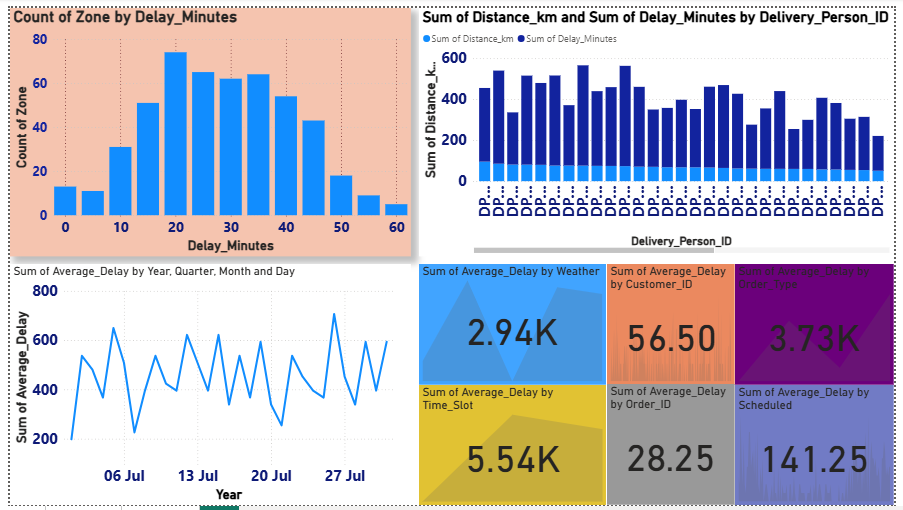

This screenshot's page, from the dashboard's own definition file:
{"tool":"powerbi","page":{"name":"Page 3","canvas":[1280,720],"ordinal":2},"visuals":[{"type":"columnChart","fields":{"Category":["realistic_delivery_dataset csv05.Delay_Minutes"],"Y":["CountNonNull(realistic_delivery_dataset csv05.Zone)"]},"box":[0,0,580.9,360.3],"z":1001},{"type":"lineStackedColumnComboChart","fields":{"Y":["Sum(realistic_delivery_dataset csv05.Distance_km)","Sum(realistic_delivery_dataset csv05.Delay_Minutes)"],"Category":["realistic_delivery_dataset csv05.Delivery_Person_ID"]},"box":[592.6,0,686.8,360.3],"z":1002},{"type":"lineChart","fields":{"Y":["Sum(realistic_delivery_dataset csv05.Average_Delay)"],"Category":["realistic_delivery_dataset csv05.Order_Date.Variation.Date Hierarchy.Year","realistic_delivery_dataset csv05.Order_Date.Variation.Date Hierarchy.Quarter","realistic_delivery_dataset csv05.Order_Date.Variation.Date Hierarchy.Month","realistic_delivery_dataset csv05.Order_Date.Variation.Date Hierarchy.Day"]},"box":[0,370.6,580.9,350],"z":1003},{"type":"kpi","fields":{"Indicator":["Sum(realistic_delivery_dataset csv05.Average_Delay)"],"TrendLine":["realistic_delivery_dataset csv05.Weather"]},"box":[592.6,370.6,270.6,175],"z":1004},{"type":"kpi","fields":{"Indicator":["Sum(realistic_delivery_dataset csv05.Average_Delay)"],"TrendLine":["realistic_delivery_dataset csv05.Time_Slot"]},"box":[593,546,271,174],"z":1005},{"type":"kpi","fields":{"TrendLine":["realistic_delivery_dataset csv05.Customer_ID"],"Indicator":["Sum(realistic_delivery_dataset csv05.Average_Delay)"]},"box":[864.7,370.6,185.3,175],"z":1006},{"type":"kpi","fields":{"Indicator":["Sum(realistic_delivery_dataset csv05.Average_Delay)"],"TrendLine":["realistic_delivery_dataset csv05.Order_ID"]},"box":[864.7,545.6,185.3,175],"z":1007},{"type":"kpi","fields":{"TrendLine":["realistic_delivery_dataset csv05.Order_Type"],"Indicator":["Sum(realistic_delivery_dataset csv05.Average_Delay)"]},"box":[1050,371,230,175],"z":1008},{"type":"kpi","fields":{"TrendLine":["realistic_delivery_dataset csv05.Scheduled"],"Indicator":["Sum(realistic_delivery_dataset csv05.Average_Delay)"]},"box":[1050,546,230,174],"z":1009}]}

Visuals, with their boxes in screenshot pixels (x1, y1, x2, y2), scaled from the page's 1280x720 canvas onto the 903x510 screenshot:
columnChart - realistic_delivery_dataset csv05.Delay_Minutes x CountNonNull(realistic_delivery_dataset csv05.Zone): x1=0 y1=0 x2=410 y2=255
lineStackedColumnComboChart - Sum(realistic_delivery_dataset csv05.Distance_km) x Sum(realistic_delivery_dataset csv05.Delay_Minutes): x1=418 y1=0 x2=902 y2=255
lineChart - Sum(realistic_delivery_dataset csv05.Average_Delay) x realistic_delivery_dataset csv05.Order_Date.Variation.Date Hierarchy.Year: x1=0 y1=263 x2=410 y2=509
kpi - Sum(realistic_delivery_dataset csv05.Average_Delay) x realistic_delivery_dataset csv05.Weather: x1=418 y1=263 x2=609 y2=386
kpi - Sum(realistic_delivery_dataset csv05.Average_Delay) x realistic_delivery_dataset csv05.Time_Slot: x1=418 y1=387 x2=610 y2=509
kpi - realistic_delivery_dataset csv05.Customer_ID x Sum(realistic_delivery_dataset csv05.Average_Delay): x1=610 y1=263 x2=741 y2=386
kpi - Sum(realistic_delivery_dataset csv05.Average_Delay) x realistic_delivery_dataset csv05.Order_ID: x1=610 y1=386 x2=741 y2=509
kpi - realistic_delivery_dataset csv05.Order_Type x Sum(realistic_delivery_dataset csv05.Average_Delay): x1=741 y1=263 x2=902 y2=387
kpi - realistic_delivery_dataset csv05.Scheduled x Sum(realistic_delivery_dataset csv05.Average_Delay): x1=741 y1=387 x2=902 y2=509
